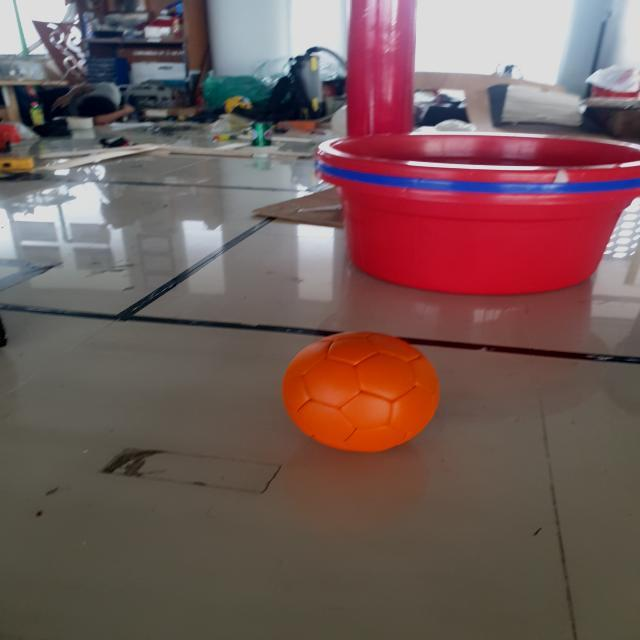bola: (271, 322, 448, 462)
